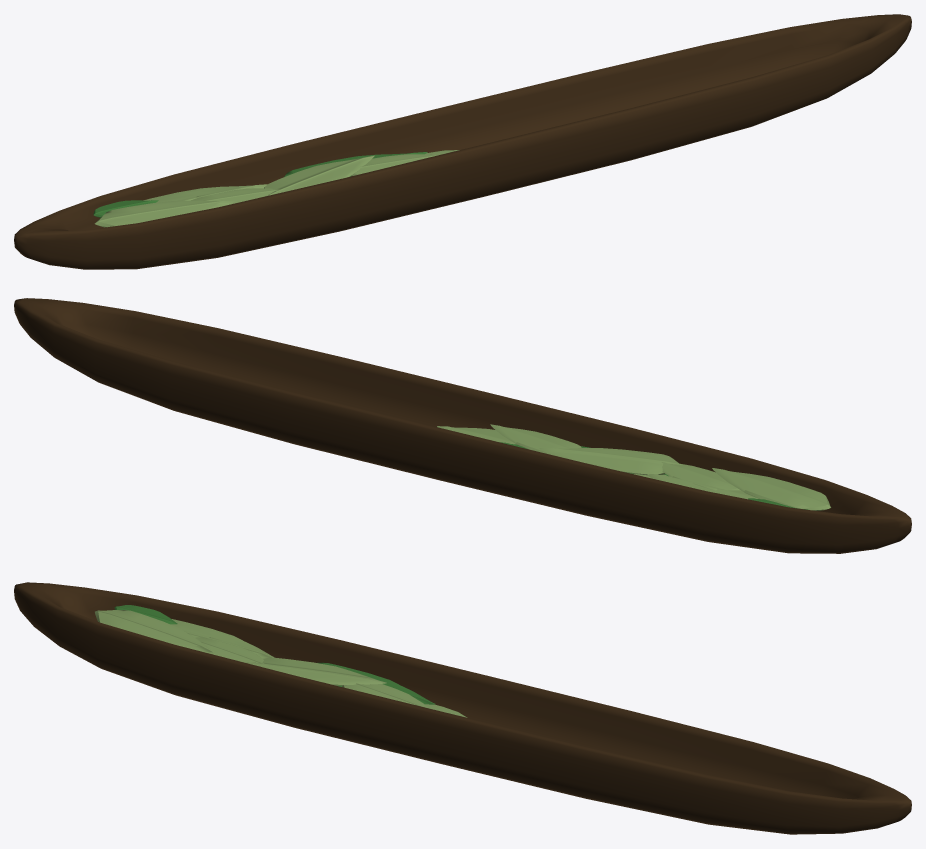
Rendered from marche.gltf.
The picture shows the model from 3 angles, top to bottom: view 1: azimuth 30°, elevation 25°; view 2: azimuth 150°, elevation 25°; view 3: azimuth 330°, elevation 25°; orthographic projection.
Visible parts, largest first — view 1: Cube.001; view 2: Cube.001; view 3: Cube.001.
Part boxes in pixels (left/top/right/bottom): Cube.001: left=14, top=14, right=911, bottom=269; Cube.001: left=14, top=298, right=911, bottom=553; Cube.001: left=14, top=582, right=911, bottom=834.
Bounding box in the file's own units: 8.07 × 0.4817 × 0.8491.
